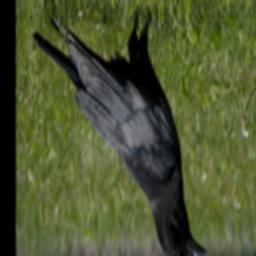Crow: (31, 0, 209, 256)
